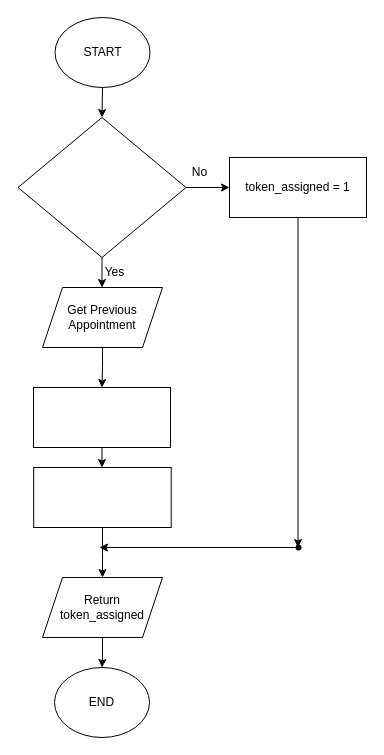
Some shapes in this 384 by 755 pixel diagram are drawn without their labels. The shapes that lost their labels are listed below. From the top down, each one's centre as x and y in pixels, then its label:
the point at 101,187: Are there previous appointments for the specified doctor on the specified day?
the point at 101,417: last_appointment _token = previous_ appointment_token
the point at 102,497: token_assigned = last_appointment_token + 1
